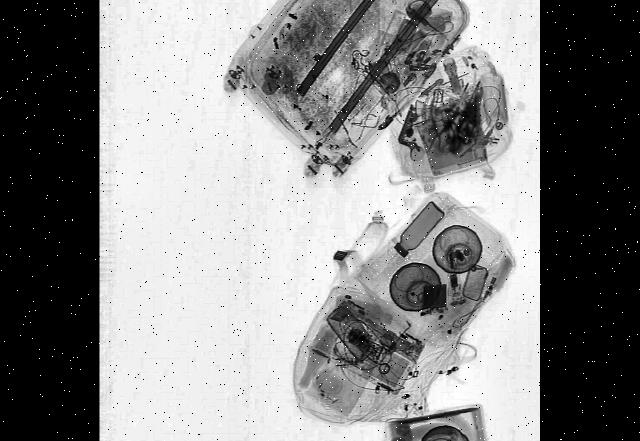Pliers: (420, 88, 459, 161)
